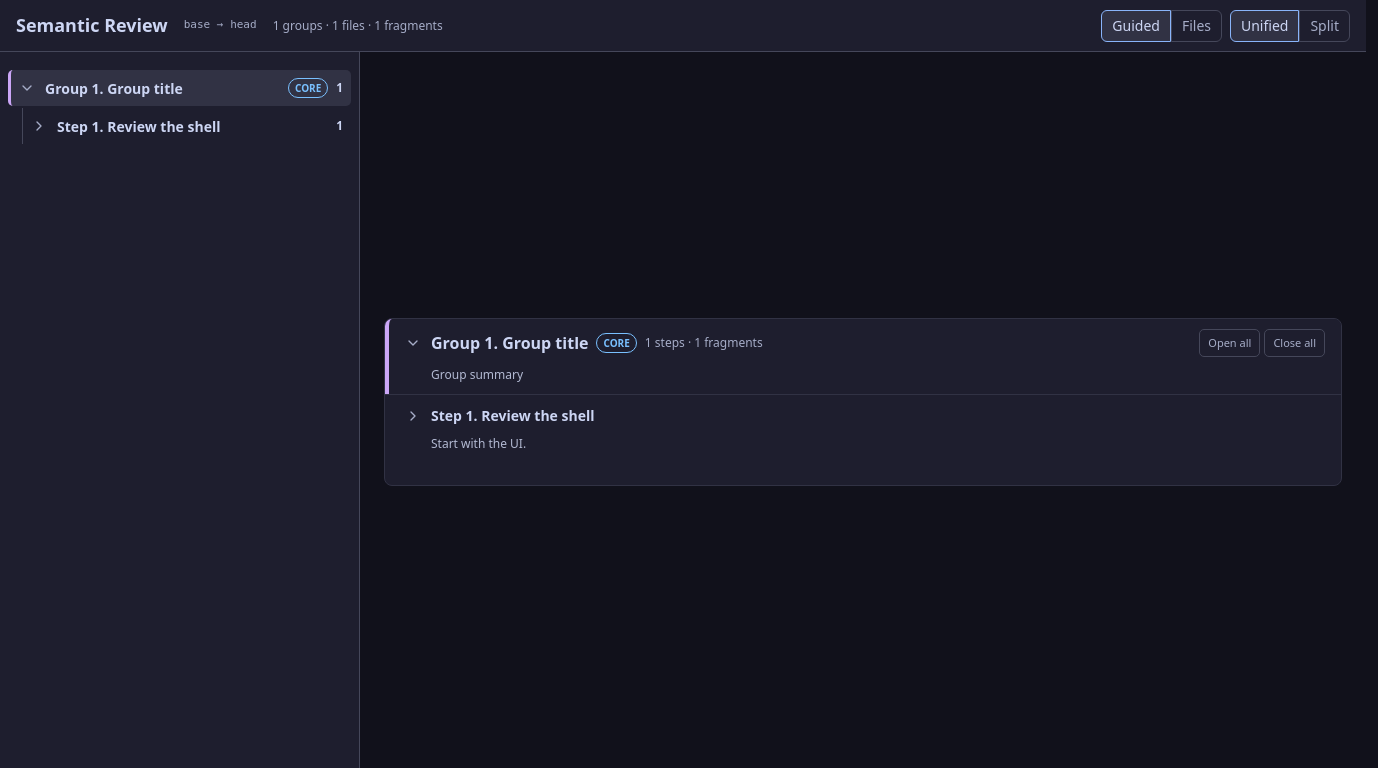
Test: viewer regressions › switches between guided review and categorized files
The width and height of the screenshot is (1378, 768).
Expected: the element with class "group" is shown, 384,318 -> 1342,486
Expected: the heading "Group 1. Group title" is shown, 431,331 -> 588,355
Click the heading "Step 1. Review the shell Start with the UI." at (454,416), box 401,395 -> 1325,461
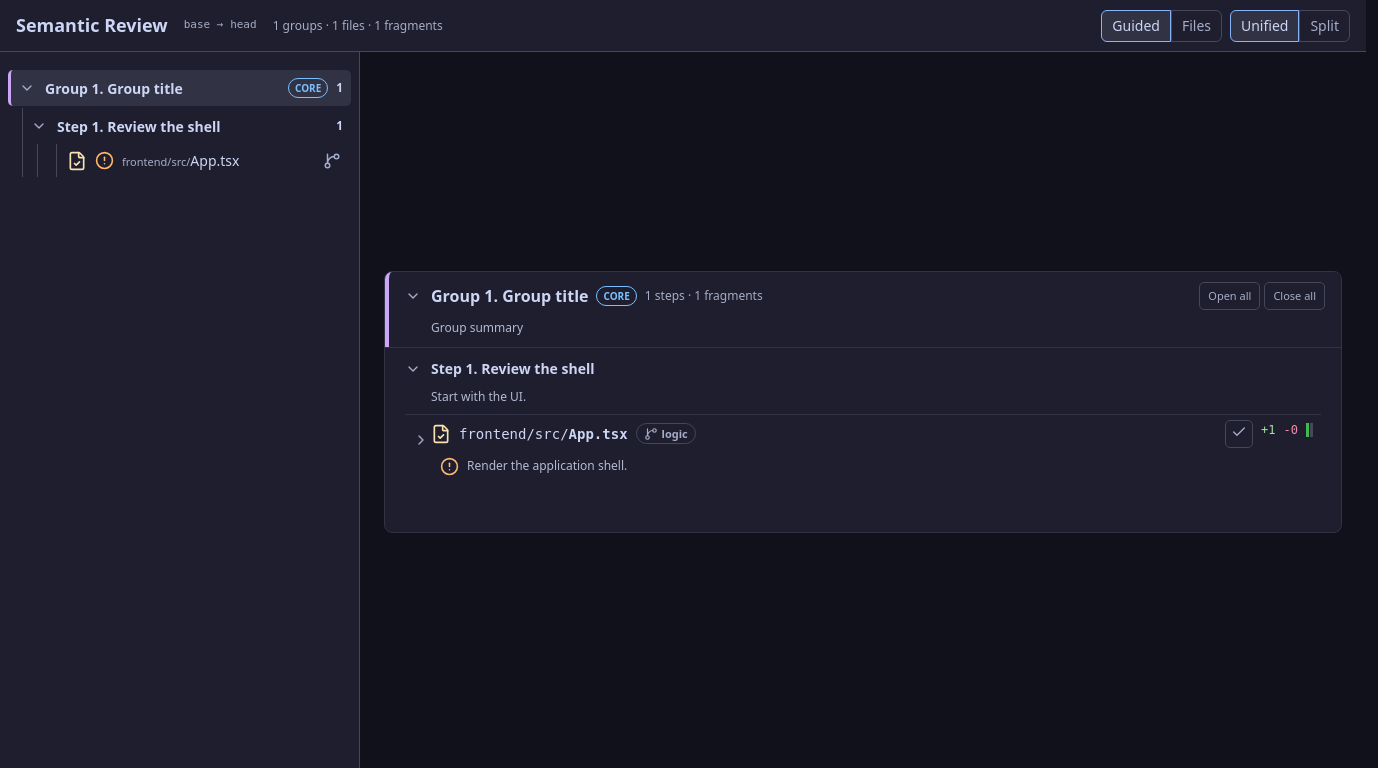
Expected: the element with class "review-step" has attribute open, 385,347 -> 1341,532
Expected: the element with class "nav-step" has attribute open, 23,108 -> 351,177
Click the button named "Toggle Step" at (40,126), box 31,114 -> 49,138
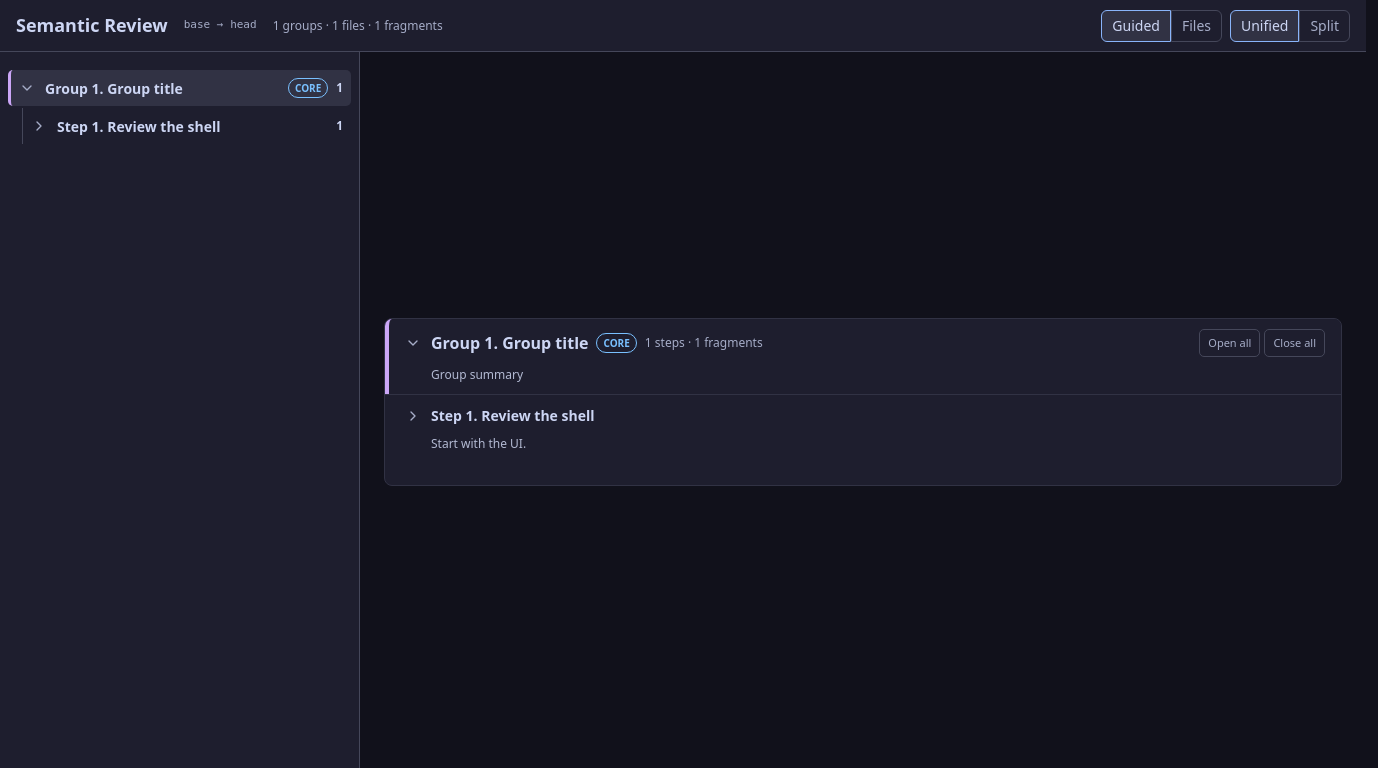
Expected: the element with class "nav-step" does not have attribute open, 23,108 -> 351,144
Expected: the element with class "review-step" does not have attribute open, 385,394 -> 1341,485
Click the button "Files" at (1196,26), box 1171,10 -> 1222,42
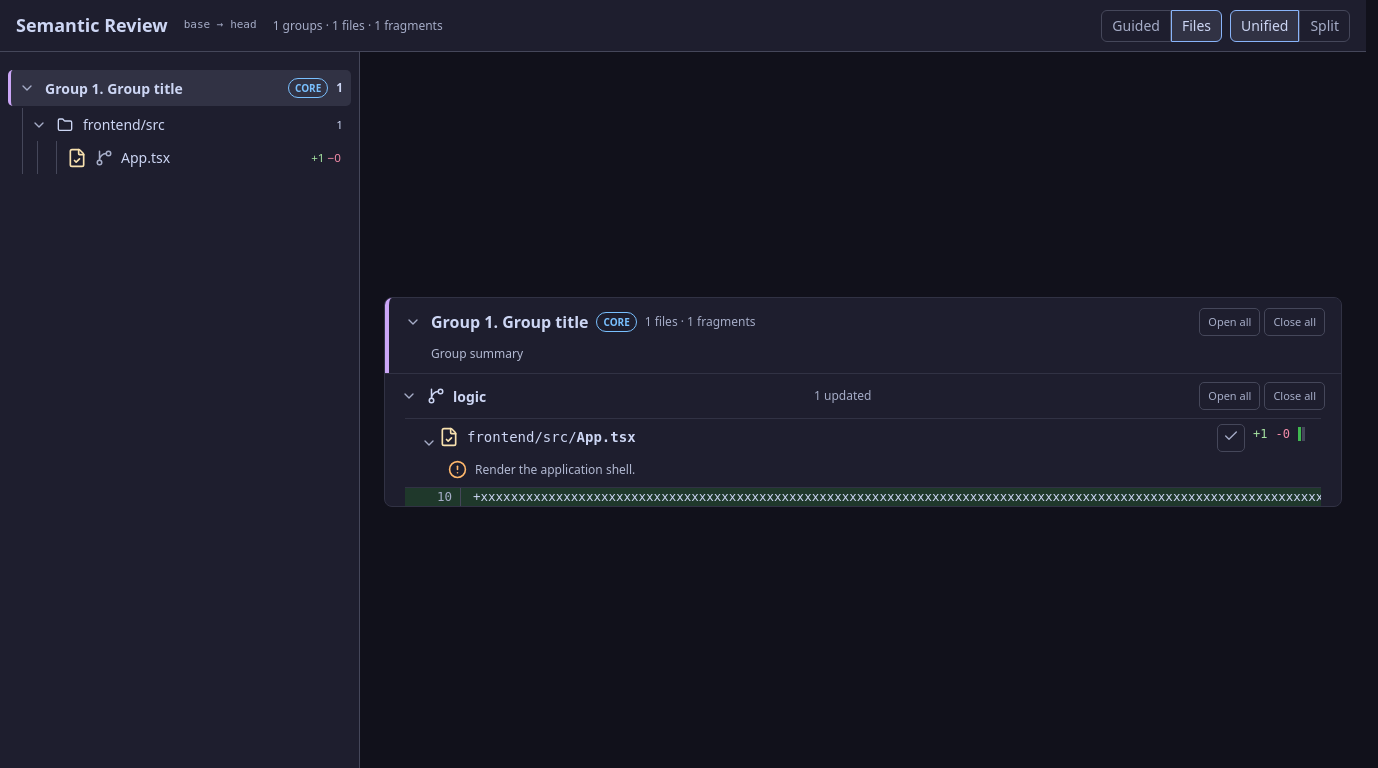
Expected: the element with class "guided-group" is gone
Expected: the element with class "files-group" is shown, 384,297 -> 1342,507
Expected: the element with class "nav-step" is gone
